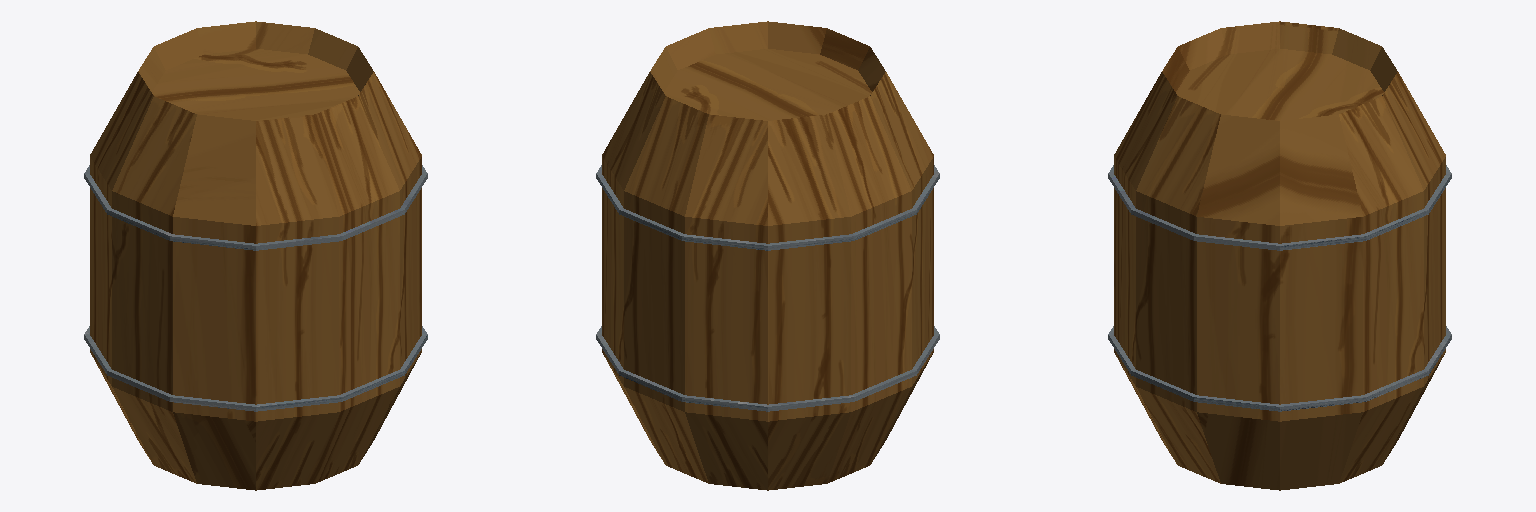
3 views of the same model, side by side, from view 1: azimuth 30°, elevation 25°; view 2: azimuth 150°, elevation 25°; view 3: azimuth 270°, elevation 25° (orthographic).
Visible parts, largest first — view 1: Cylinder.004_Cylinder.003; view 2: Cylinder.004_Cylinder.003; view 3: Cylinder.004_Cylinder.003.
Boxes of the visible parts, <box> form: Cylinder.004_Cylinder.003: <box>84,21,427,490</box>; Cylinder.004_Cylinder.003: <box>596,21,939,490</box>; Cylinder.004_Cylinder.003: <box>1108,21,1451,490</box>.
Size of the model in its own units: 0.5499 by 0.6529 by 0.5499.
1 materials, 1 textured.